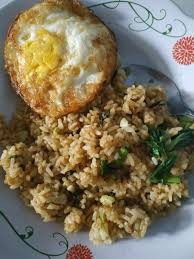Nasi goreng: (0, 92, 192, 244)
Telur ceplok: (6, 2, 119, 114)
